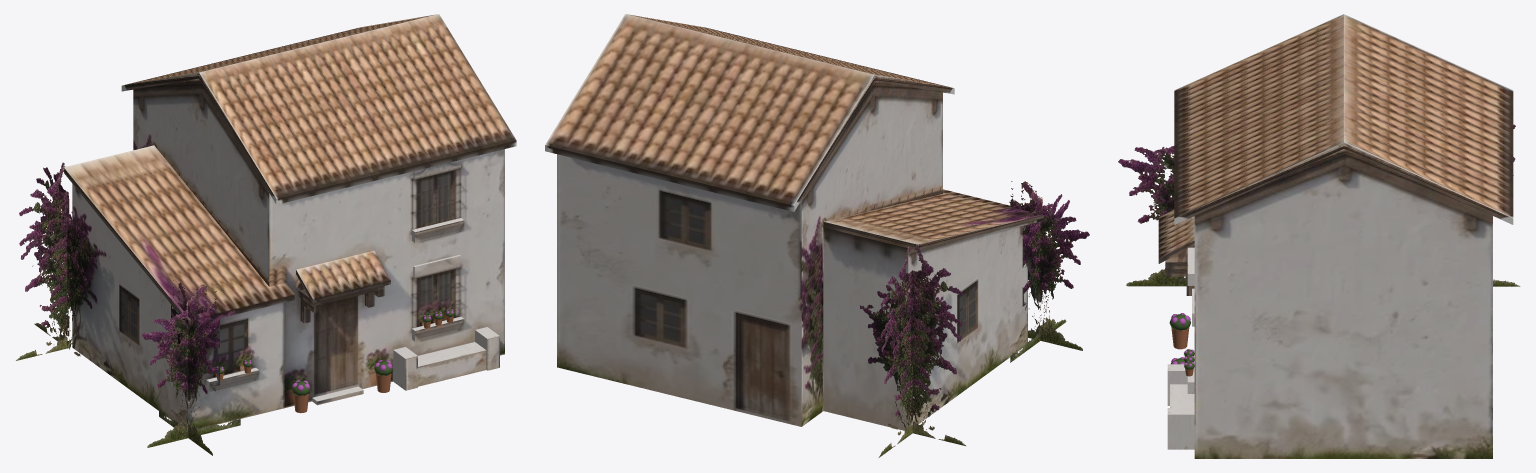
Rendered from casa_rustica.glb.
3 views of the same model, side by side, from view 1: azimuth 30°, elevation 25°; view 2: azimuth 150°, elevation 25°; view 3: azimuth 270°, elevation 25° (orthographic). The views are drawn at different scales.
Parts seen in each view (by area): view 1: CR_Casa, CR_Buganvillas, CR_MacetaPuerta_I_Tiesto, CR_MacetaPuerta_I_Mata; view 2: CR_Casa, CR_Buganvillas; view 3: CR_Casa, CR_Buganvillas, CR_MacetaPuerta_I_Mata.
Boxes of the visible parts, left/top/right/bottom form: CR_Casa: left=64, top=14, right=516, bottom=428; CR_Buganvillas: left=16, top=162, right=240, bottom=455; CR_MacetaPuerta_I_Tiesto: left=216, top=316, right=453, bottom=413; CR_MacetaPuerta_I_Mata: left=217, top=309, right=454, bottom=395; CR_Casa: left=545, top=14, right=1046, bottom=430; CR_Buganvillas: left=860, top=181, right=1089, bottom=457; CR_Casa: left=1158, top=14, right=1513, bottom=458; CR_Buganvillas: left=1118, top=124, right=1520, bottom=286; CR_MacetaPuerta_I_Mata: left=1169, top=314, right=1194, bottom=369.
Bounding box in the file's own units: 10.56 × 7.76 × 8.94.
5 materials, 2 textured.
